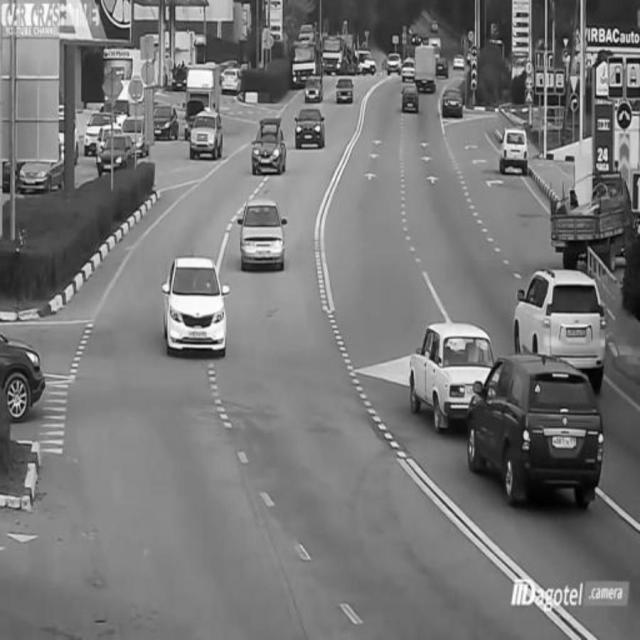vehicle: (478, 353, 600, 507), (410, 314, 496, 435), (514, 264, 605, 377), (547, 173, 640, 264), (162, 257, 228, 358), (0, 318, 51, 418), (238, 200, 289, 266), (252, 115, 289, 179), (189, 105, 223, 159), (496, 121, 531, 173), (291, 104, 325, 156), (95, 131, 136, 173), (320, 34, 356, 76), (293, 39, 321, 90), (414, 43, 438, 97), (438, 82, 468, 122), (154, 104, 182, 144), (399, 83, 423, 120), (336, 73, 356, 103), (385, 44, 402, 74)
